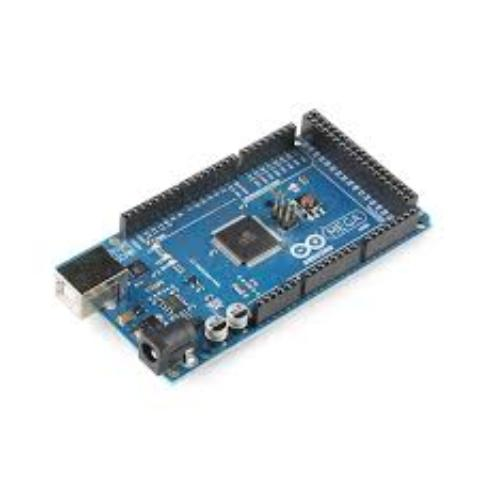Arduino-Mega: (49, 98, 440, 394)
